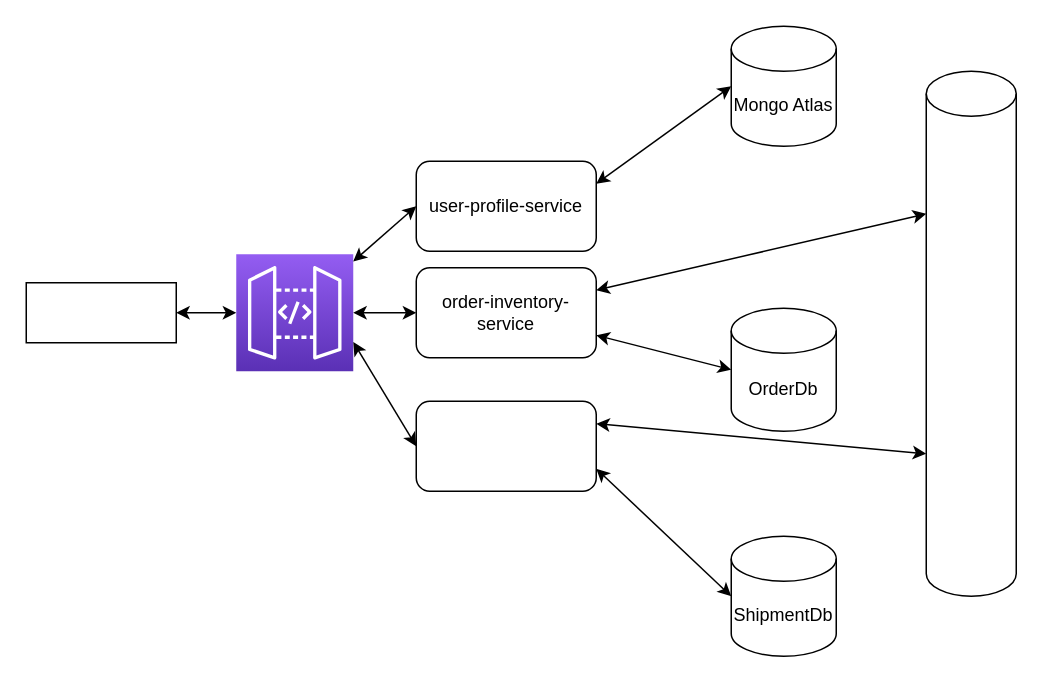
This 1043x683 diagram has some shape labels left out. The centre of each missing label's shape, as x and y in pixels:
Client: point 100,312
kafka: point 970,333
shipment-invoicing-service: point 505,445
